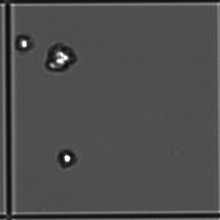Living Cell: (44, 41, 79, 73), (51, 145, 82, 169), (13, 31, 35, 54)
